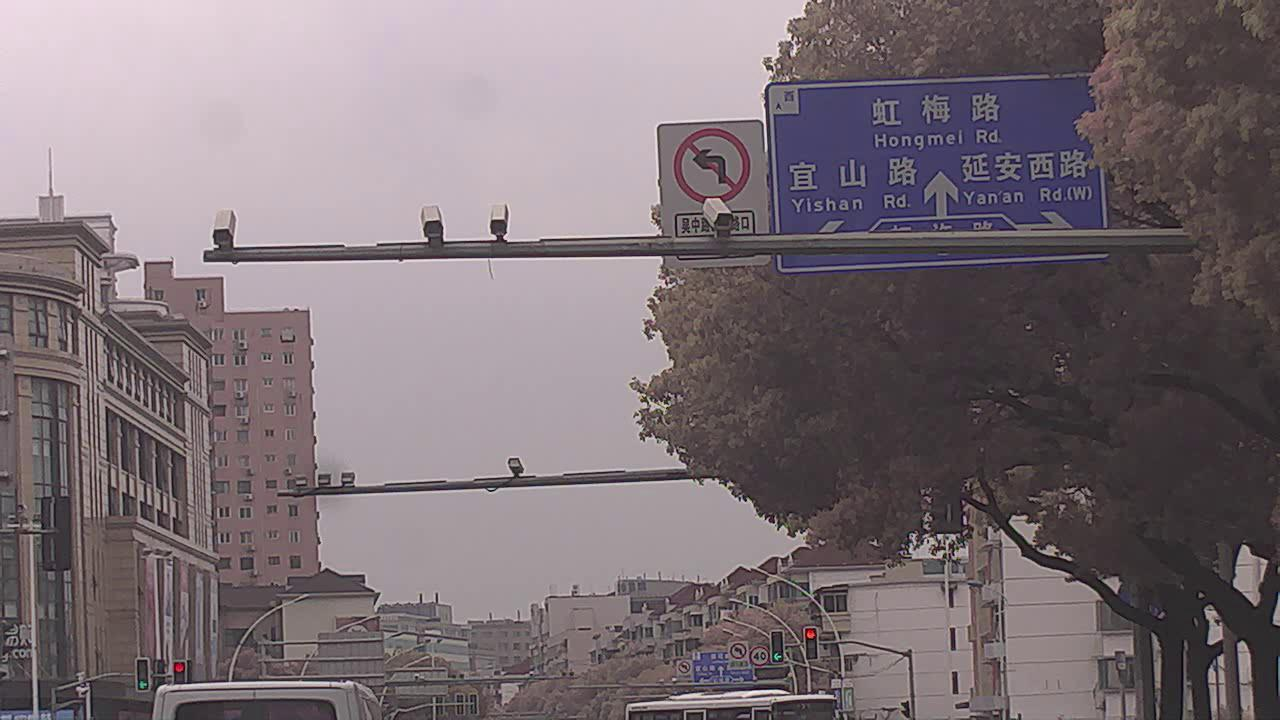traffic_light: (135, 658, 152, 693), (803, 627, 819, 659), (771, 629, 786, 663), (172, 661, 187, 688)
